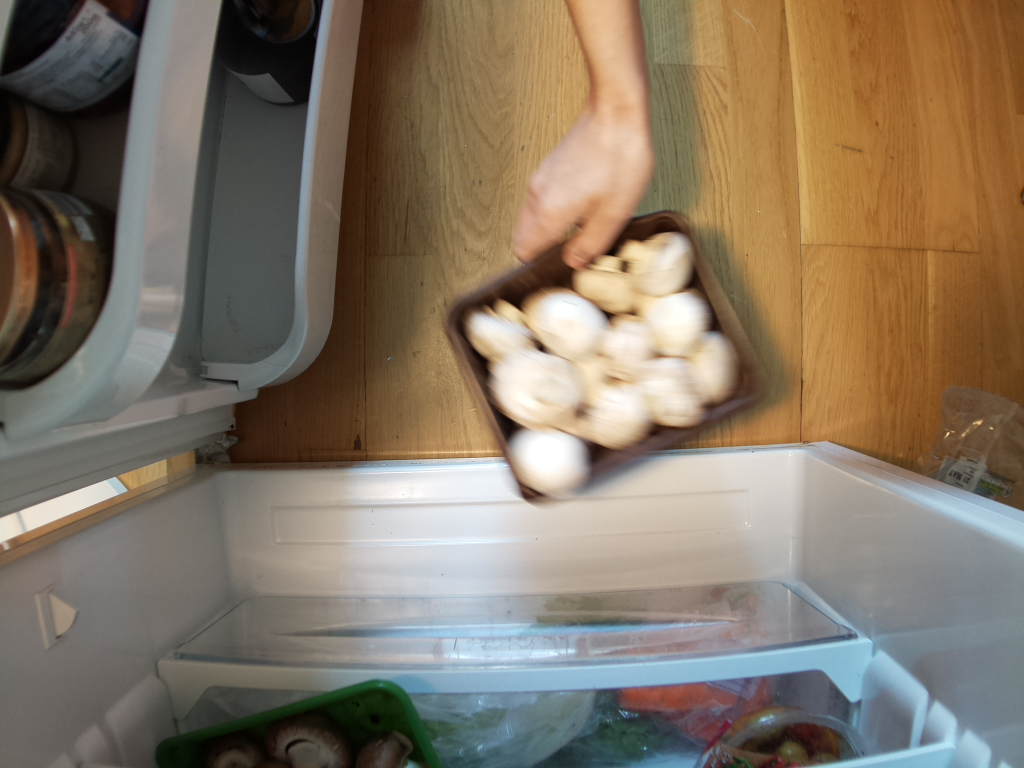mushrooms: (445, 197, 762, 493)
